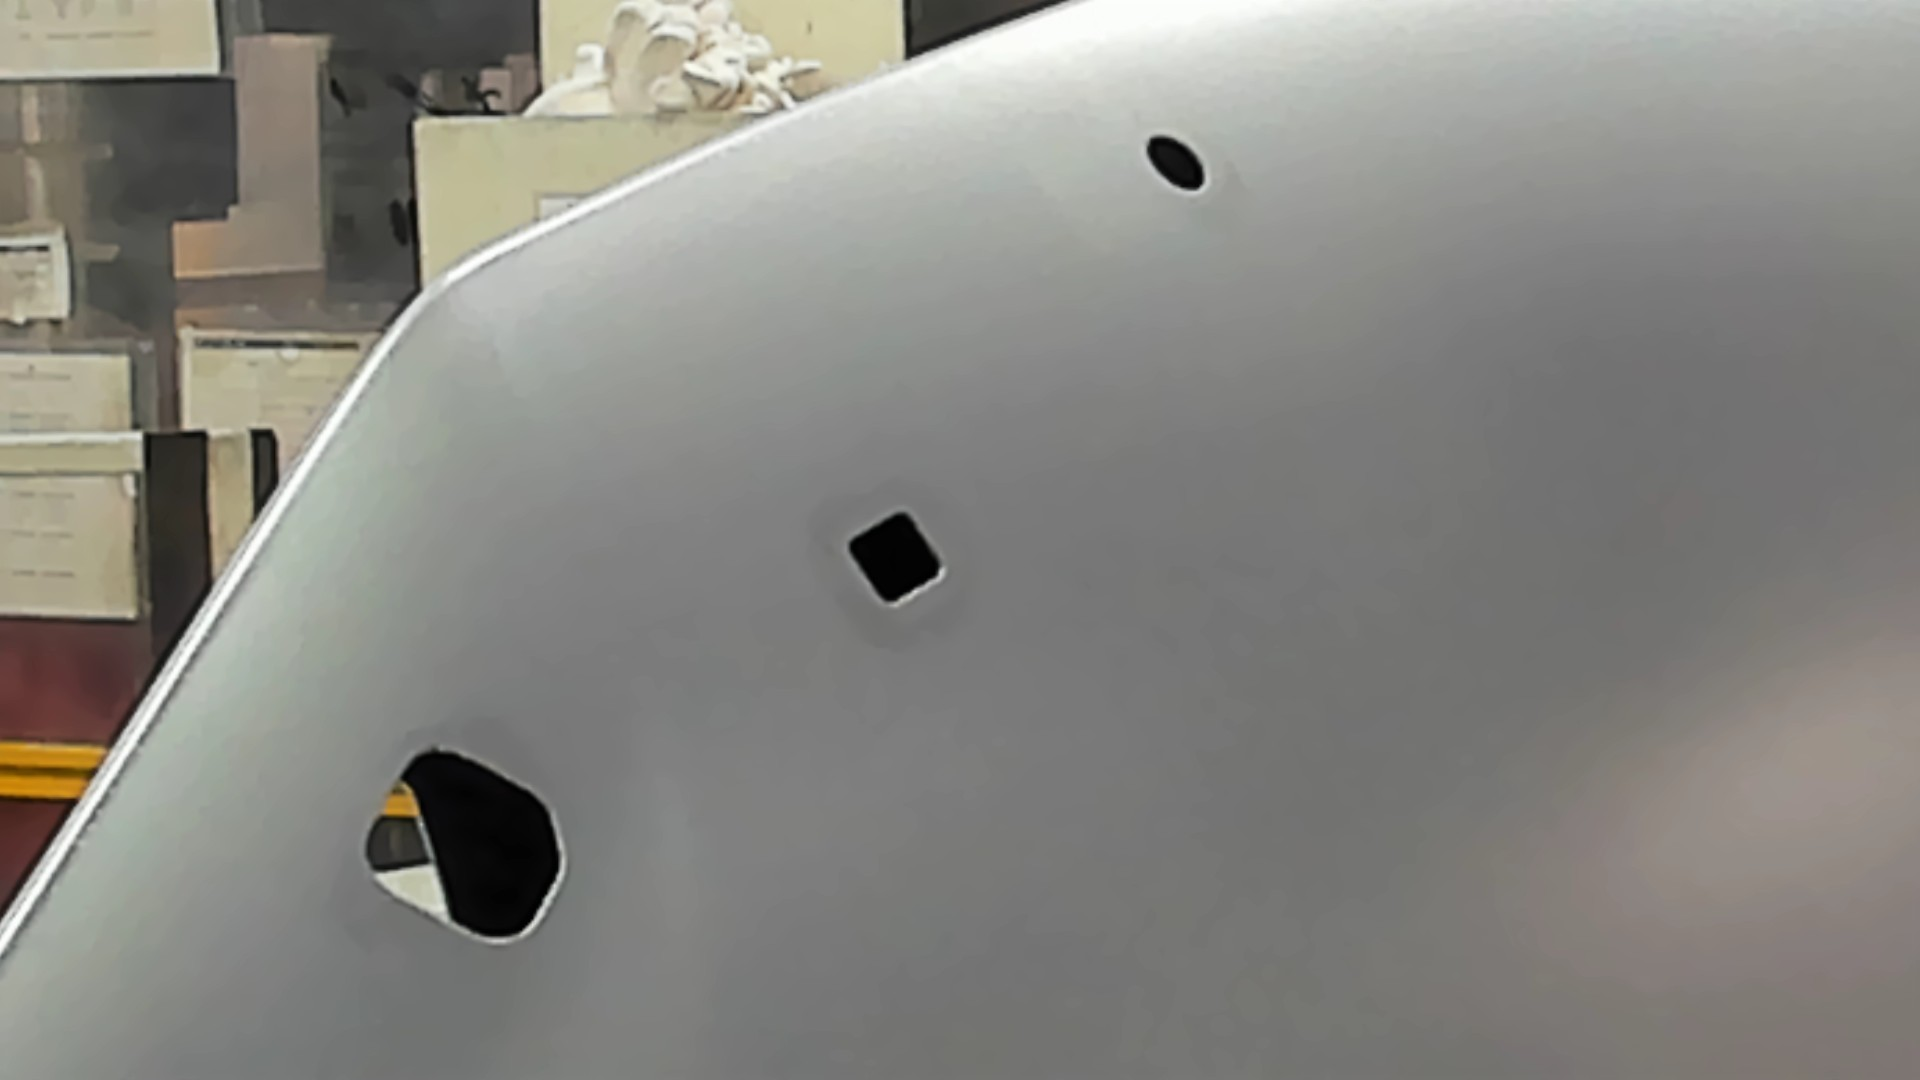chico: (1138, 128, 1211, 199)
grande: (359, 741, 571, 953)
mediano: (839, 502, 951, 617)
